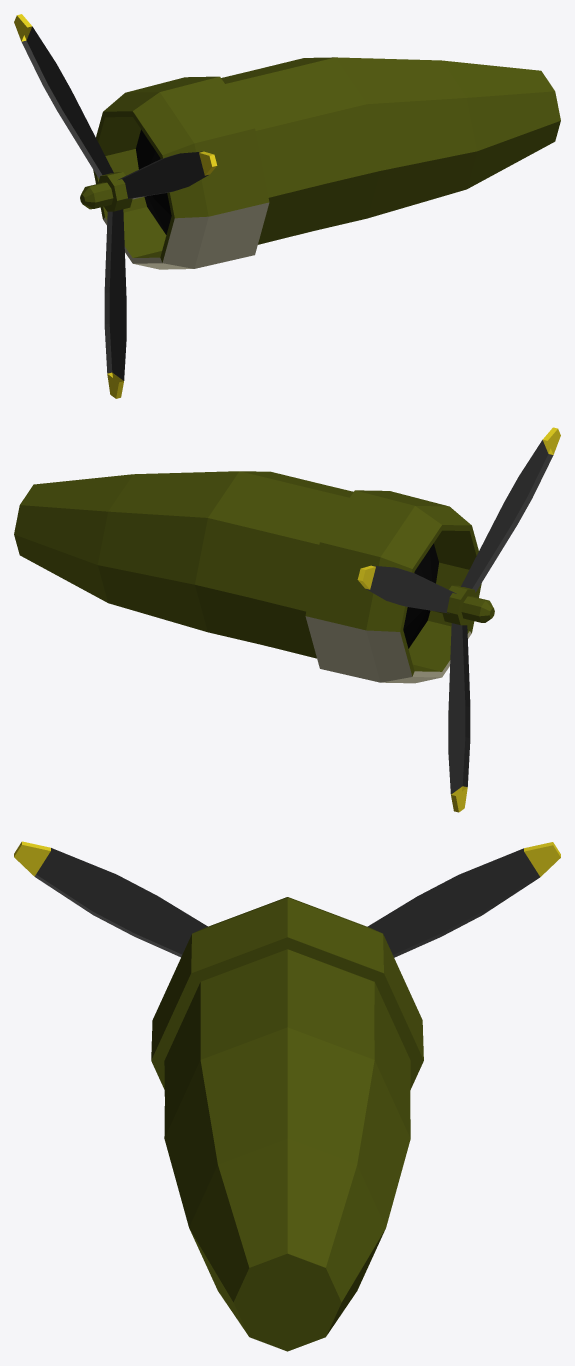
The model's file is B17_engine_wt_props.glb.
3 views of the same model, one above another, from view 1: azimuth 30°, elevation 25°; view 2: azimuth 150°, elevation 25°; view 3: azimuth 270°, elevation 25° (orthographic). The views are drawn at different scales.
Parts seen in each view (by area): view 1: Engine 4, Pale 1.003, Pale 2.003, Pale 3.003; view 2: Engine 4, Pale 1.003, Pale 3.003, Pale 2.003; view 3: Engine 4, Pale 3.003, Pale 2.003.
Boxes of the visible parts, <box> form: Engine 4: <box>80,57,560,269</box>; Pale 1.003: <box>104,209,126,398</box>; Pale 2.003: <box>14,14,113,178</box>; Pale 3.003: <box>118,151,217,199</box>; Engine 4: <box>14,471,494,683</box>; Pale 1.003: <box>448,623,470,812</box>; Pale 3.003: <box>461,427,560,592</box>; Pale 2.003: <box>357,565,456,613</box>; Engine 4: <box>151,897,423,1351</box>; Pale 3.003: <box>14,841,207,957</box>; Pale 2.003: <box>367,842,560,957</box>.
Size of the model in its own units: 2.61 by 1.69 by 1.95.
